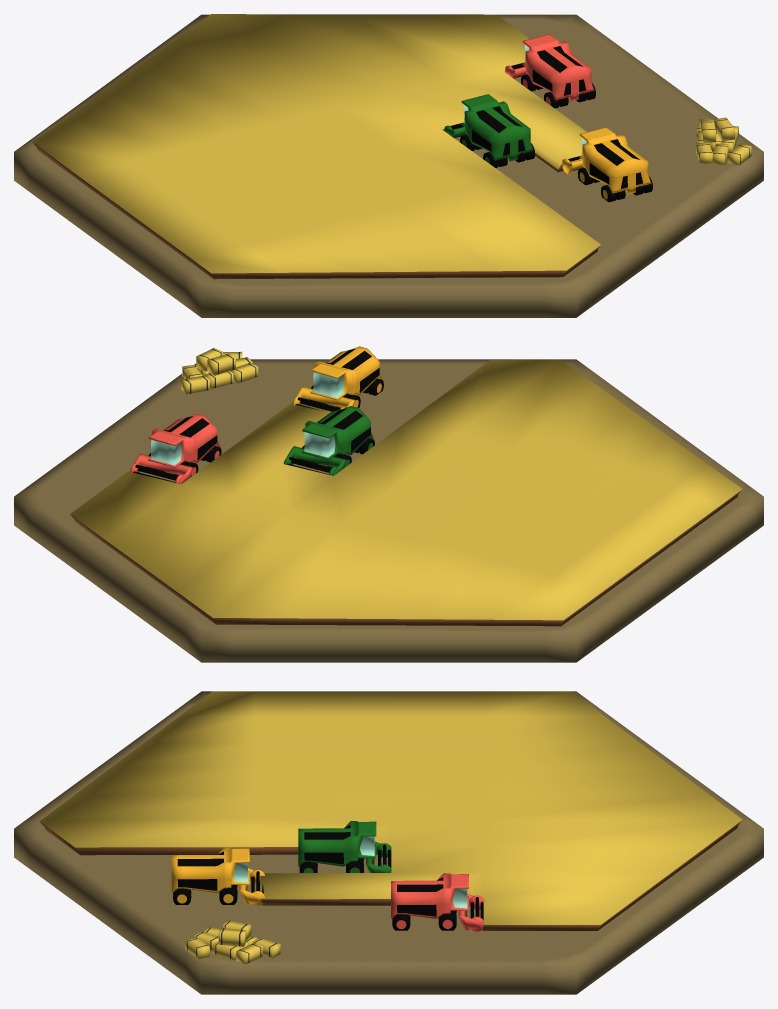
File: Harvester.fbx
The picture shows the model from 3 angles, top to bottom: view 1: azimuth 30°, elevation 25°; view 2: azimuth 150°, elevation 25°; view 3: azimuth 270°, elevation 25°; orthographic projection.
Visible parts, largest first — view 1: Cube; view 2: Cube; view 3: Cube.
Part boxes in pixels (<box>): Cube: <box>14,14,763,317</box>; Cube: <box>14,346,763,662</box>; Cube: <box>14,691,763,994</box>.
Size of the model in its own units: 116 by 100 by 11.66.
